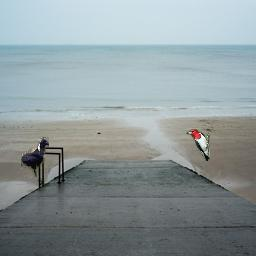Crow: (21, 137, 49, 177)
Woodpecker: (186, 129, 210, 161)
